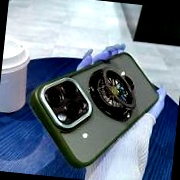iphone: (21, 49, 148, 170)
